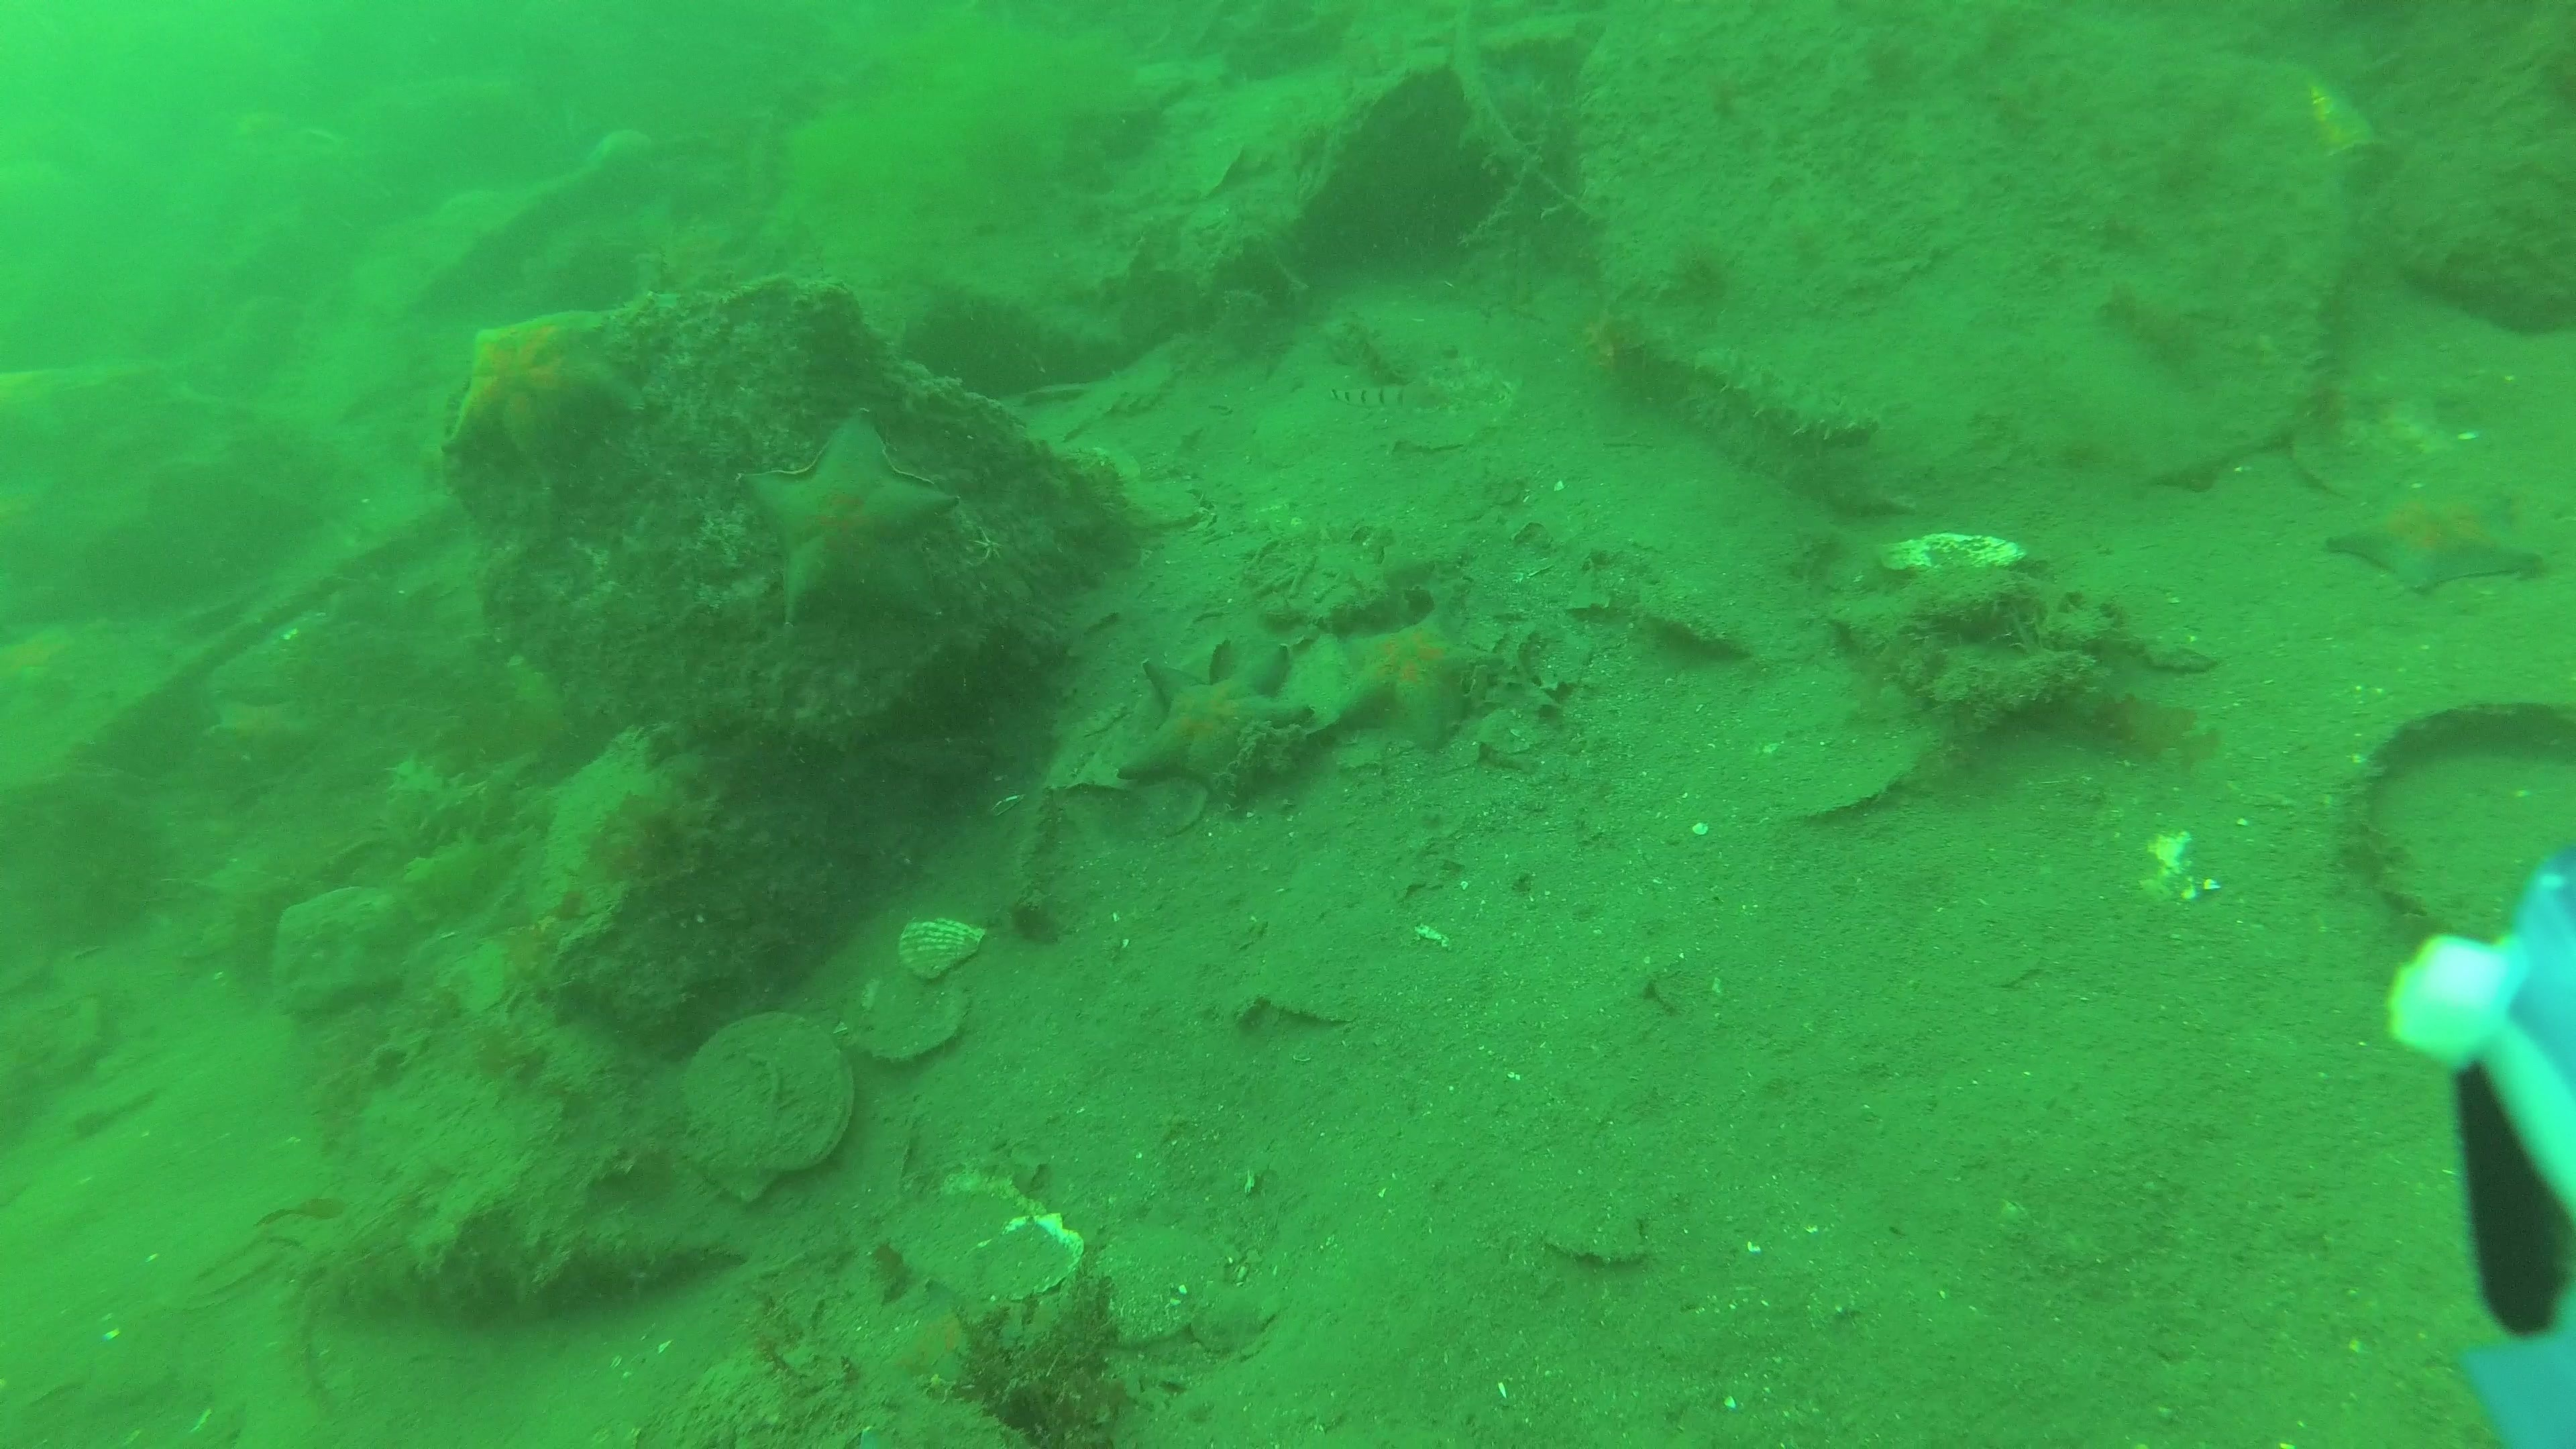holothurian: (1688, 345, 1879, 449), (377, 754, 483, 855)
scallop: (674, 1012, 860, 1203), (1385, 357, 1523, 456), (844, 970, 973, 1065)
starfish: (741, 410, 961, 633), (1116, 639, 1318, 814), (446, 310, 635, 471), (2327, 479, 2551, 596), (1329, 607, 1484, 750), (1460, 53, 1541, 143)
